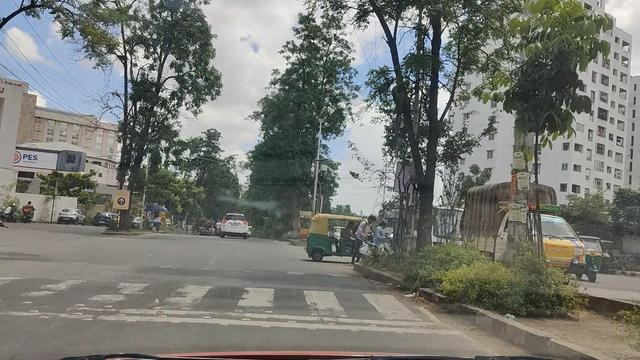LMV: (304, 216, 368, 258)
SpeedBump: (0, 267, 427, 330)
